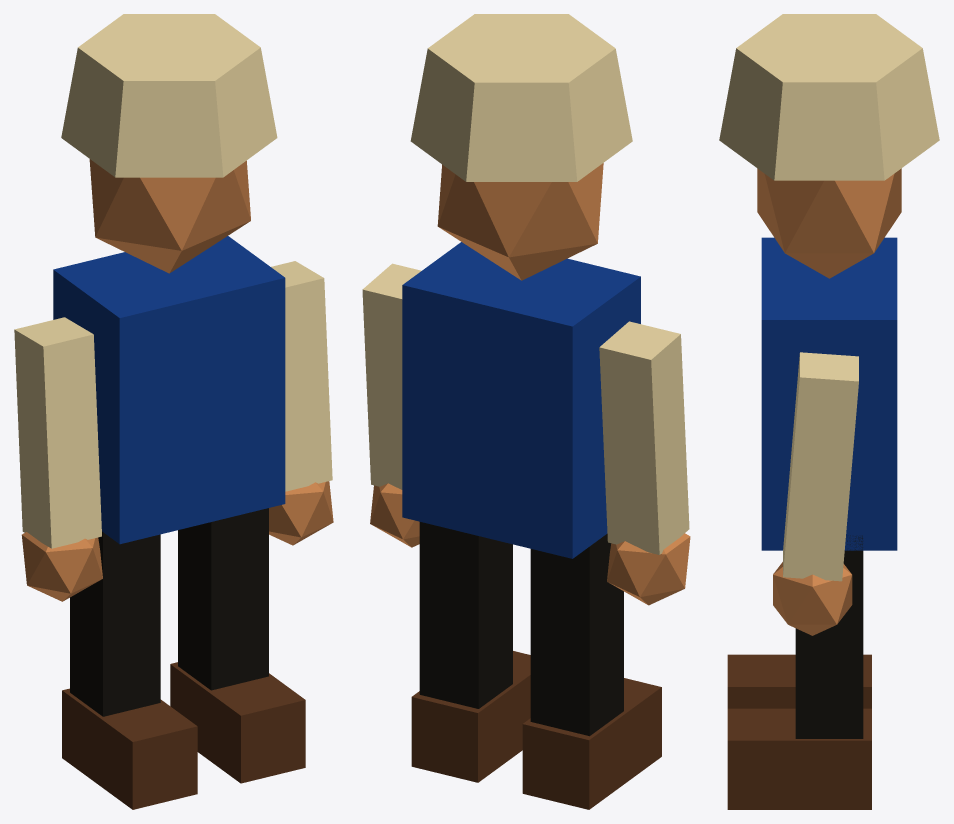
File: worker.glb
3 renders of one model, left to right at view 1: azimuth 30°, elevation 25°; view 2: azimuth 150°, elevation 25°; view 3: azimuth 270°, elevation 25°, orthographic. The views are drawn at different scales.
Parts seen in each view (by area): view 1: Arm, Tunic, Leg.001, Shoe.001, Head; view 2: Tunic, Arm, Leg.001, Shoe.001, Head; view 3: Arm, Tunic, Shoe.001, Head, Leg.001.
Boxes of the visible parts, <box> form: Arm: <box>14,14,332,548</box>; Tunic: <box>53,236,285,544</box>; Leg.001: <box>70,508,268,716</box>; Shoe.001: <box>62,662,305,809</box>; Head: <box>21,159,333,601</box>; Tunic: <box>402,242,640,558</box>; Arm: <box>362,14,689,554</box>; Leg.001: <box>419,522,623,736</box>; Shoe.001: <box>411,651,661,809</box>; Head: <box>370,163,690,605</box>; Arm: <box>719,14,939,581</box>; Tunic: <box>761,237,897,550</box>; Shoe.001: <box>727,654,871,809</box>; Head: <box>757,168,901,635</box>; Leg.001: <box>795,535,863,738</box>.
Size of the model in its own units: 0.4184 by 0.935 by 0.26.
